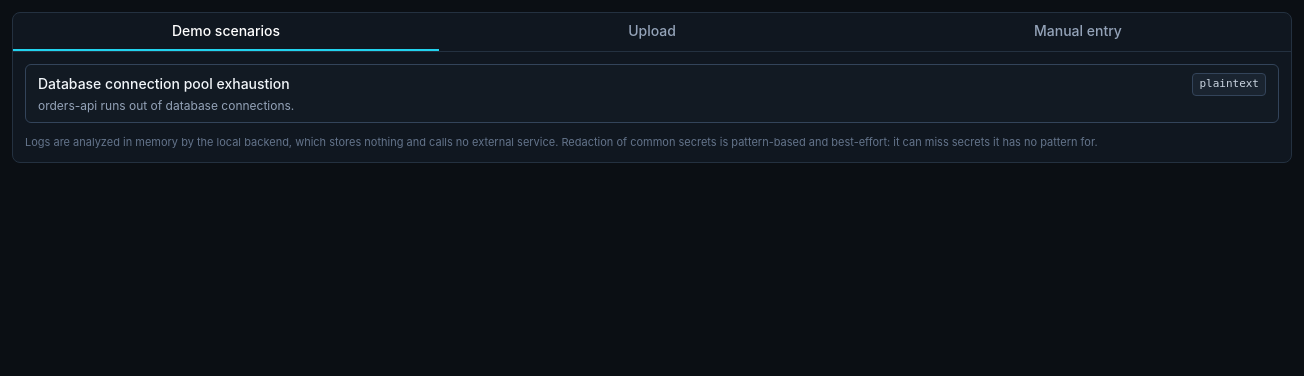
Test: IngestPanel › submits manual entry with the chosen format
Later steps or results of the test are not shown.
Click the tab "Manual entry" at coordinates (1078, 32), box [865,13,1291,51]
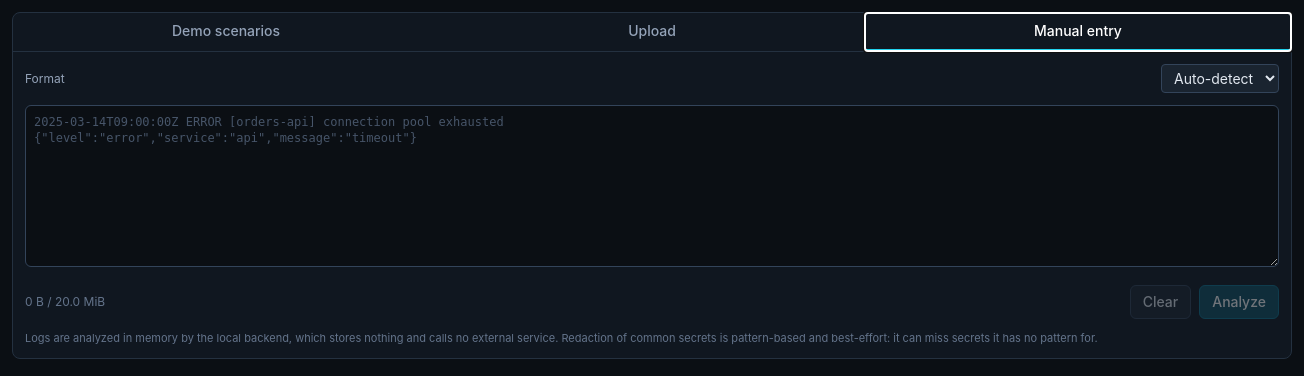
expect the button "Analyze" is disabled: met, box [1199,285,1279,319]
Type "2025-03-14T09:00:00Z ERROR [ [a] boom" into the text box named "Log content" at coordinates (652, 186), box [25,105,1279,267]
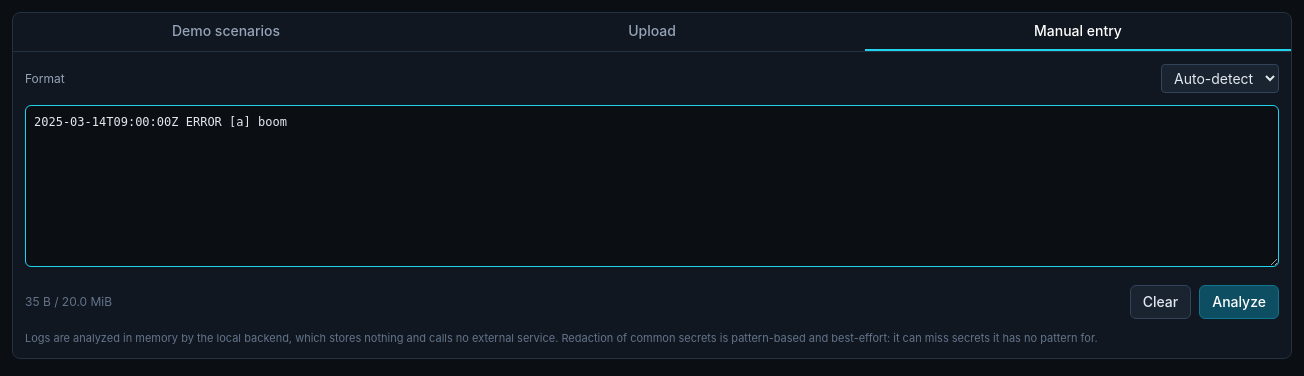
Select "Plaintext" in the dropdown named "Log format" at coordinates (1220, 78), box [1161,64,1279,93]
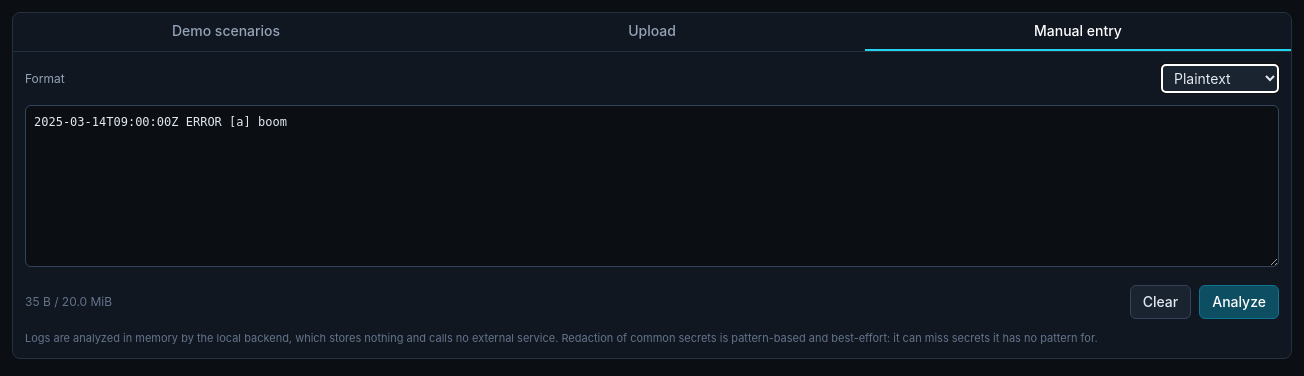
expect the button "Analyze" is enabled: met, box [1199,285,1279,319]
